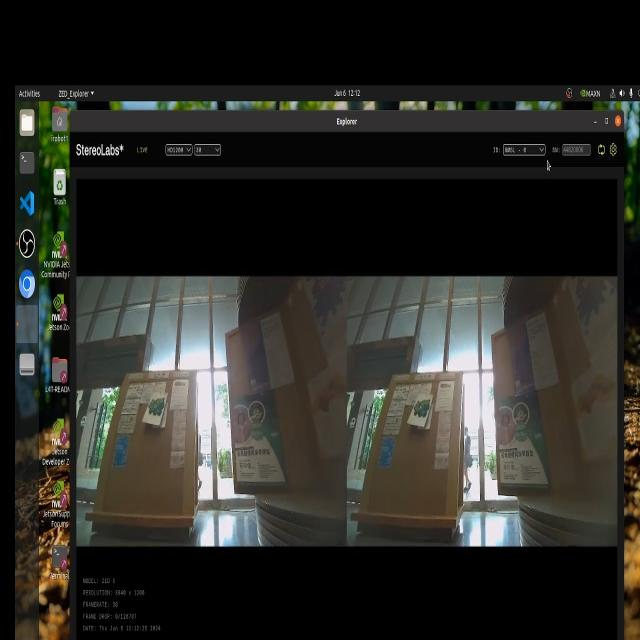green: (149, 390, 169, 424), (412, 395, 428, 423)
